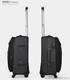luggage: (32, 6, 64, 80), (2, 5, 34, 79)
